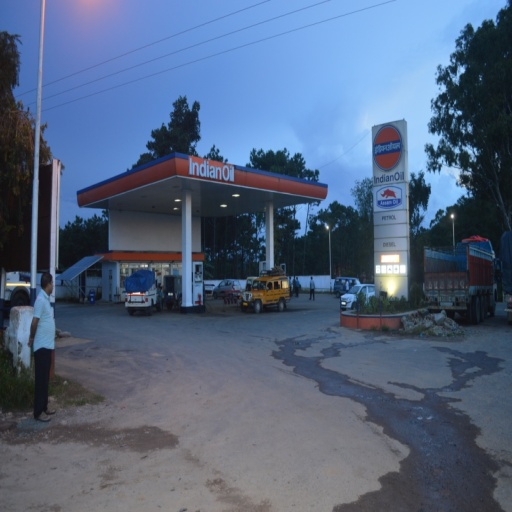roof: (76, 150, 328, 221)
